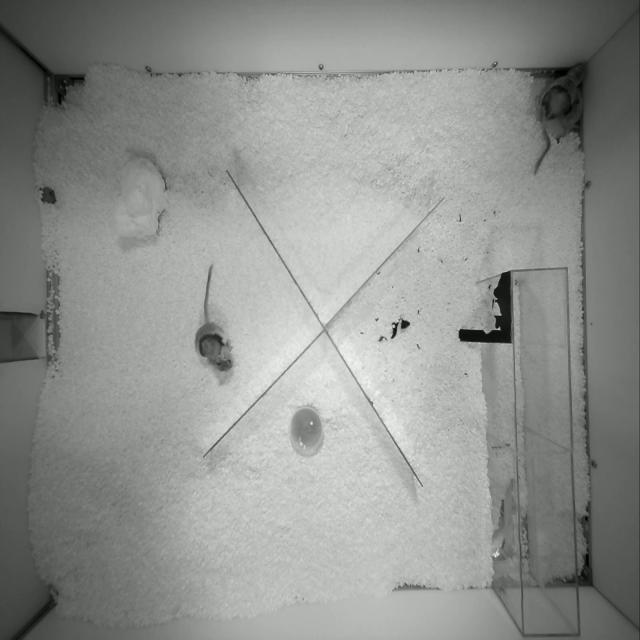adult_front: (194, 265, 233, 371)
